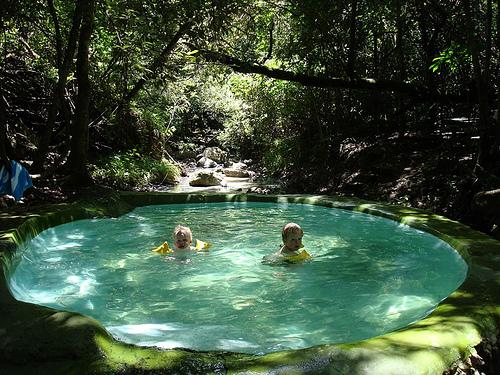swimmer: (266, 223, 301, 264), (171, 222, 194, 252)
